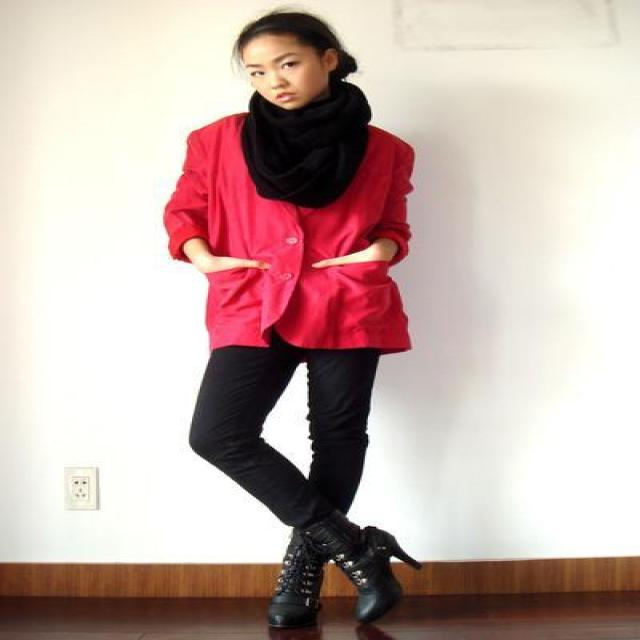jacket: (163, 115, 413, 370)
pants: (189, 328, 389, 522)
shoe: (267, 514, 432, 623)
